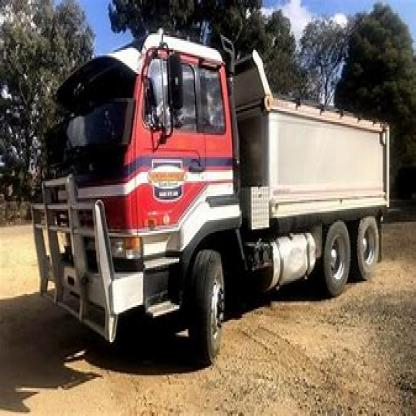dump_truck: (32, 22, 396, 374)
